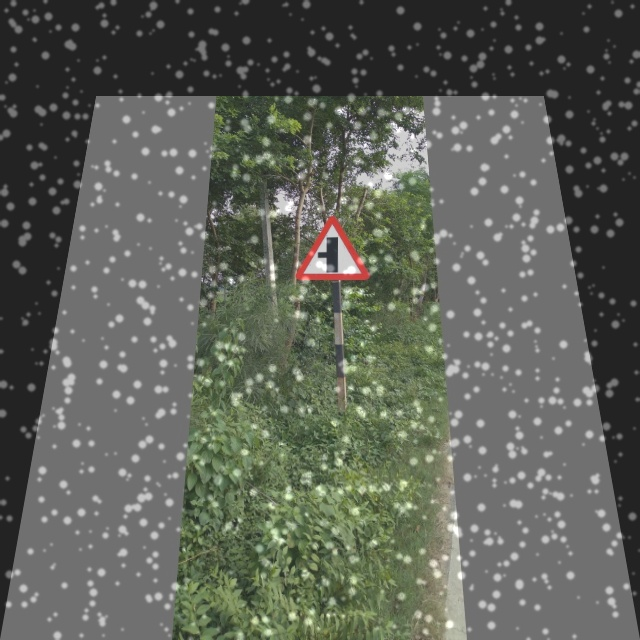Side_Road_Left: (292, 217, 365, 280)
